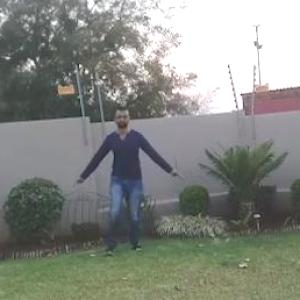land: (72, 111, 179, 254)
